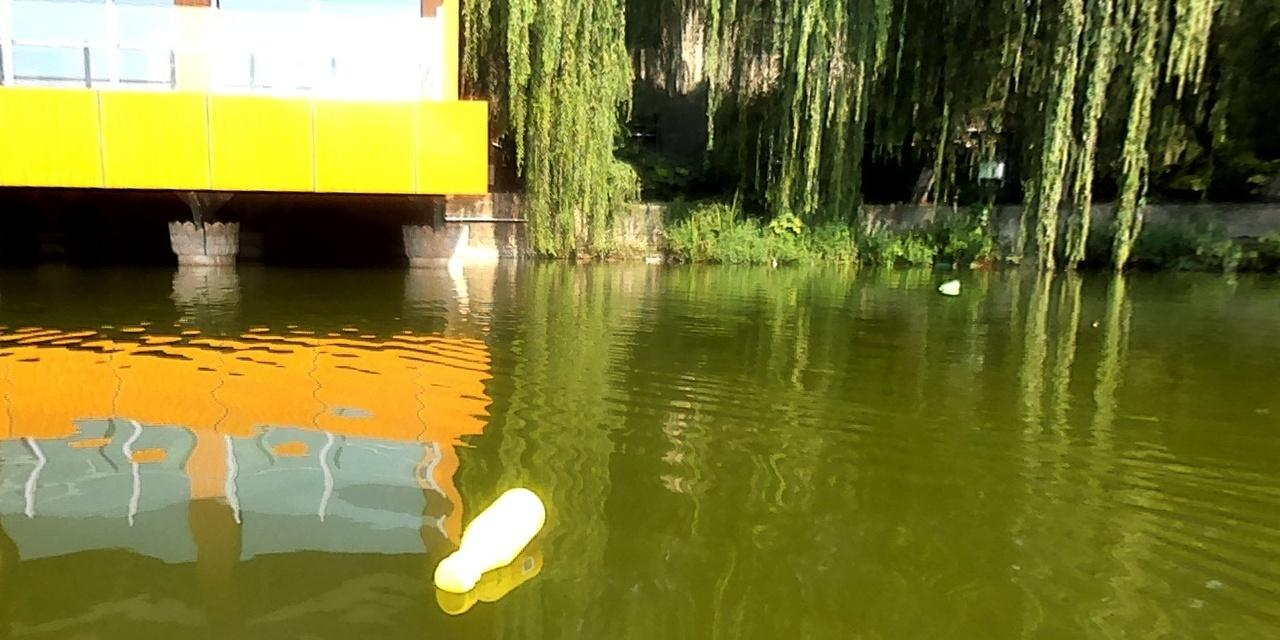bottle: (435, 487, 544, 589), (938, 280, 960, 292)
